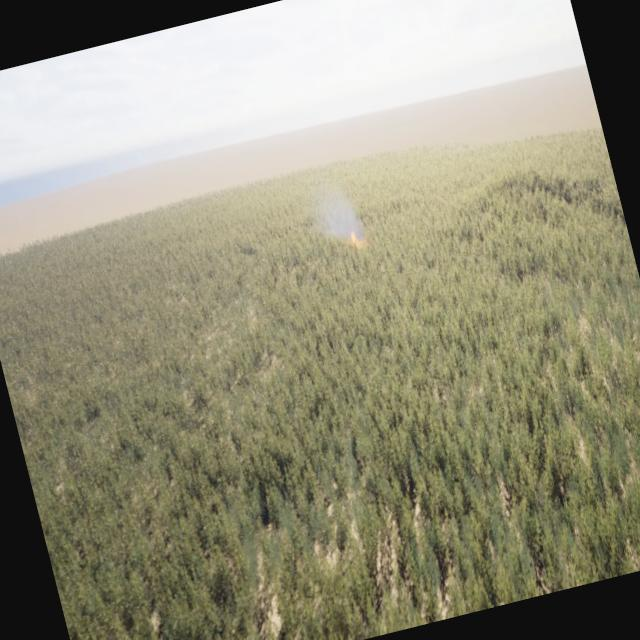fire: (346, 226, 364, 246)
smoke: (316, 182, 374, 258)
